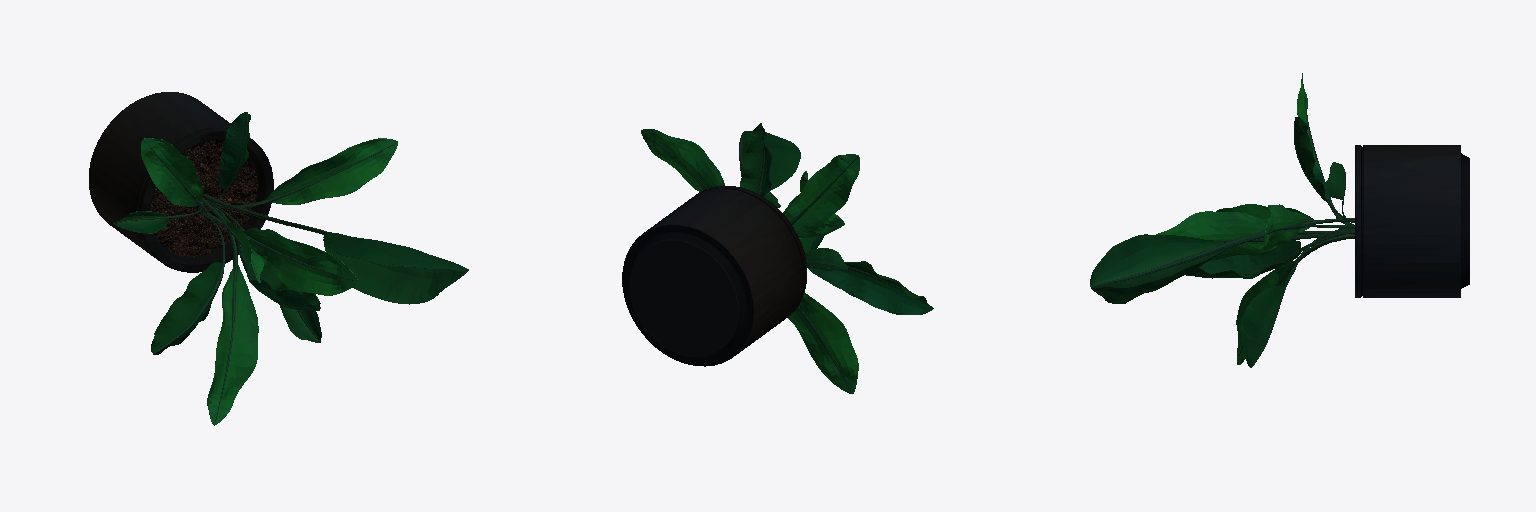
3 renders of one model, left to right at view 1: azimuth 30°, elevation 25°; view 2: azimuth 150°, elevation 25°; view 3: azimuth 270°, elevation 25°, orthographic.
Visible parts, largest first — view 1: Object.1; view 2: Object.1; view 3: Object.1.
Boxes of the visible parts, x1,y1,x2,y2 form: Object.1: [89, 92, 468, 425]; Object.1: [622, 123, 933, 393]; Object.1: [1090, 73, 1469, 367].
Bounding box in the file's own units: 549 × 540 × 670.
Materials: 1 (1 with a texture image).